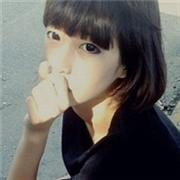face: (43, 7, 114, 105)
